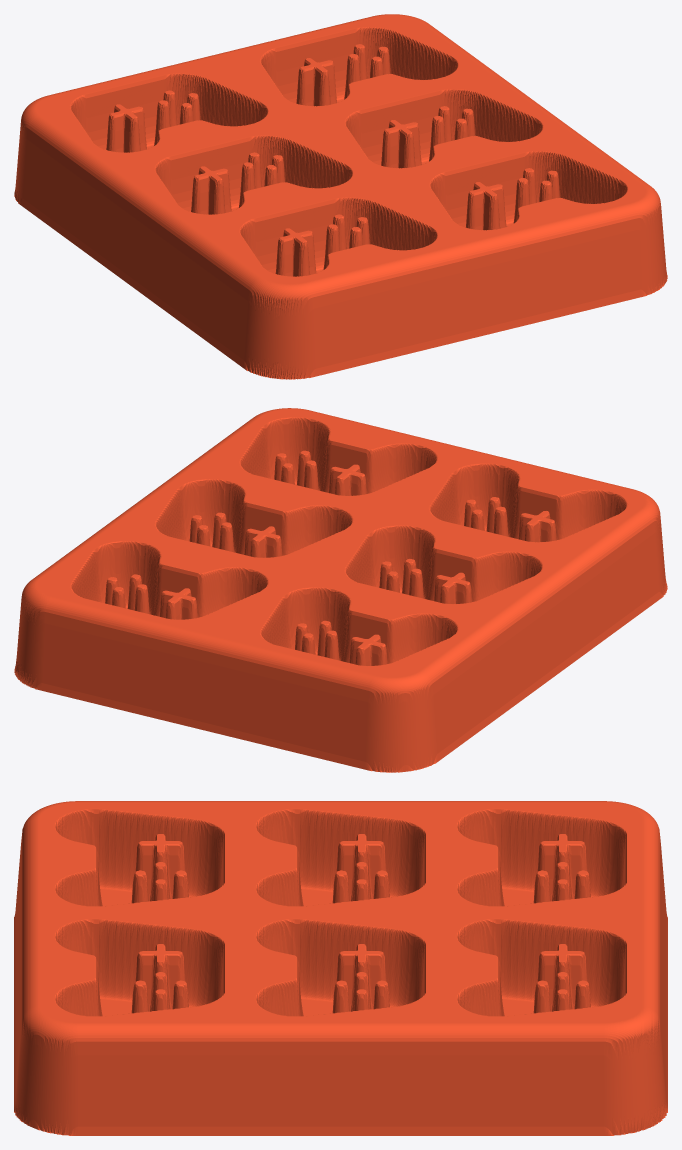
The model's file is mold.glb.
The picture shows the model from 3 angles, top to bottom: view 1: azimuth 30°, elevation 25°; view 2: azimuth 150°, elevation 25°; view 3: azimuth 270°, elevation 25°; orthographic projection. The views are drawn at different scales.
Parts seen in each view (by area): view 1: geometry_0; view 2: geometry_0; view 3: geometry_0.
Boxes of the visible parts, <box> form: geometry_0: <box>14,14,667,379</box>; geometry_0: <box>14,408,667,772</box>; geometry_0: <box>14,801,667,1135</box>.
Bounding box in the file's own units: 0.0808 × 0.0159 × 0.0924.
